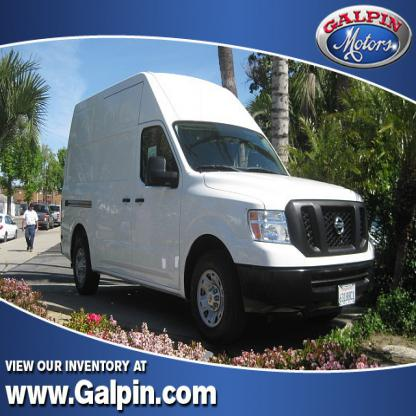Vehicle: (60, 67, 380, 354)
